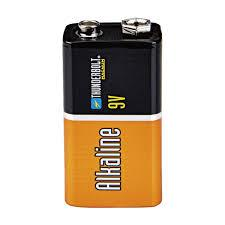9V Battery: (63, 18, 163, 209)
